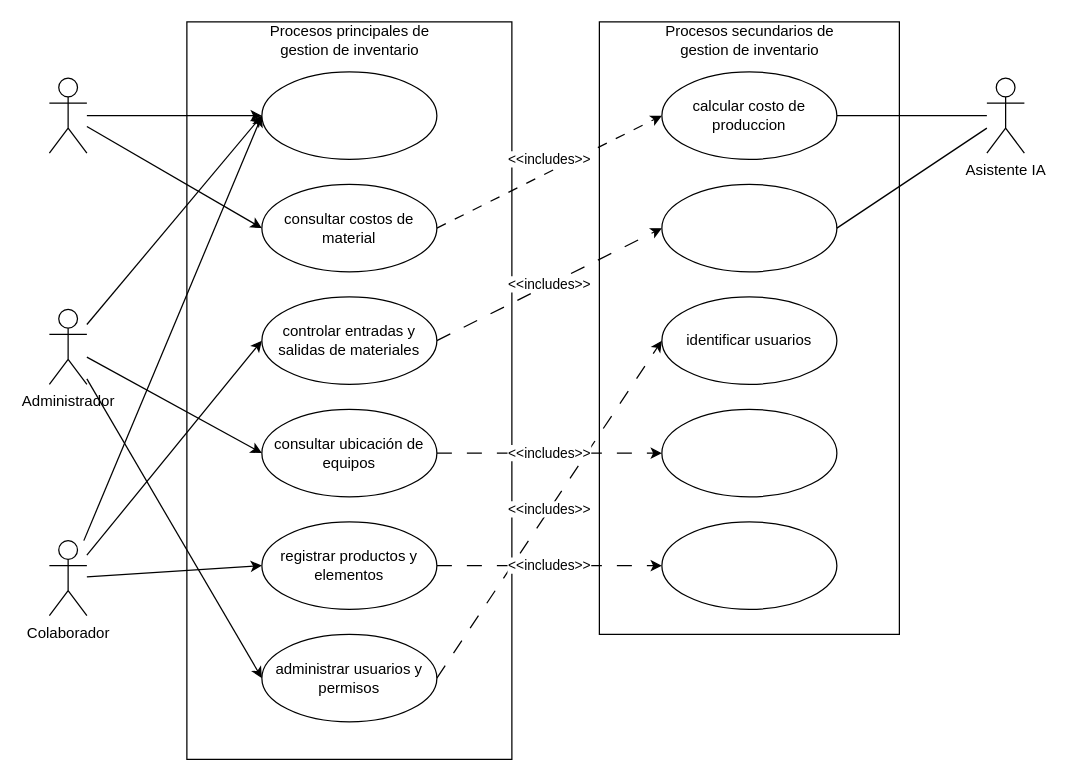
Image size: 1066x781. Some labels were removed from this diagram. Each missing label, with the box of its shape:
consultar cantidad disponible de materiales: (661, 183, 837, 272)
Gerente: (48, 77, 87, 153)
Iniciar sesion: (261, 71, 437, 159)
Modificar/eliminar elementos: (661, 521, 837, 609)
Registrar movimiento de equipos: (661, 408, 837, 497)
